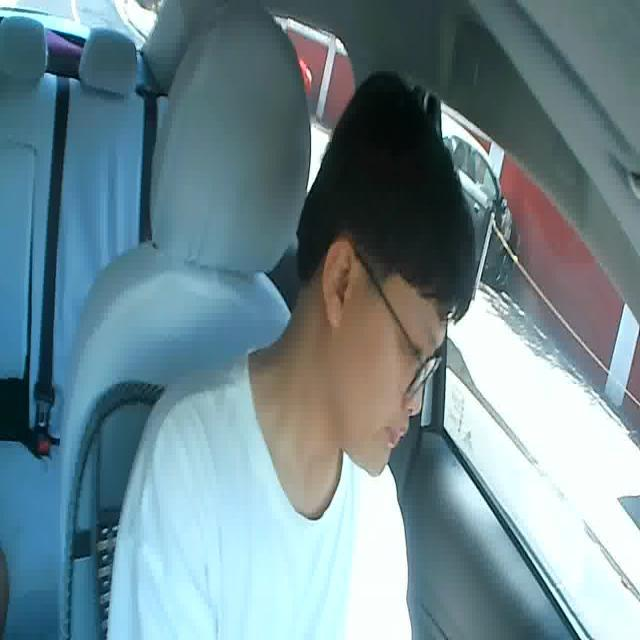Eye-Open: (405, 338, 430, 363)
Inattentive: (293, 68, 482, 481)
Normal: (383, 417, 408, 445)
